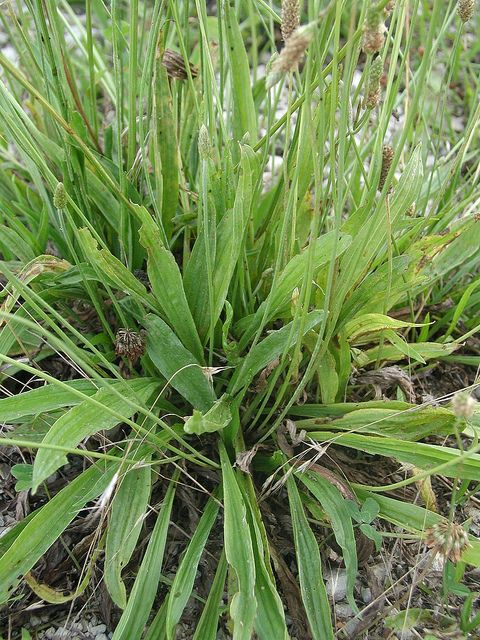buckhorn plantain: (8, 10, 463, 604)
